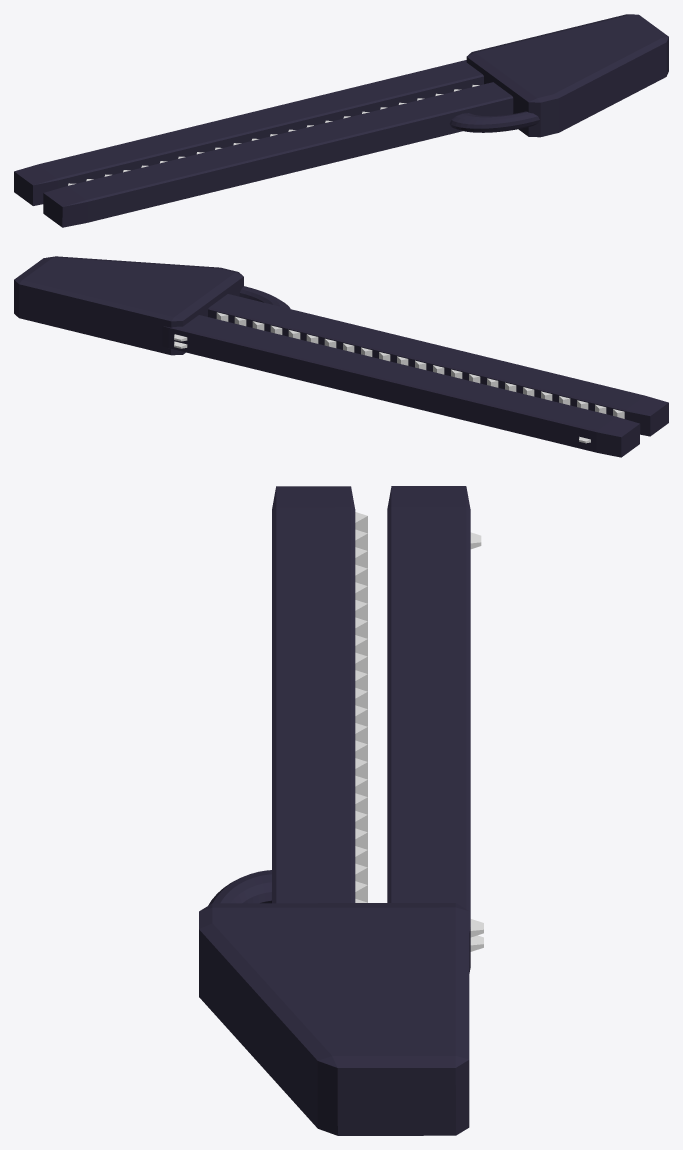
Rendered from Rogue_Demon_PlayerWeapon_V1.fbx.
3 renders of one model, top to bottom at view 1: azimuth 30°, elevation 25°; view 2: azimuth 150°, elevation 25°; view 3: azimuth 270°, elevation 25°, orthographic. The views are drawn at different scales.
Parts seen in each view (by area): view 1: Barrel_Bottom, Cube.002, Barrel_Top, Torus; view 2: Barrel_Top, Cube.002, Barrel_Bottom, Torus; view 3: Cube.002, Barrel_Top, Barrel_Bottom, Torus.
Boxes of the visible parts, <box> form: Barrel_Bottom: <box>43,82,513,227</box>; Cube.002: <box>466,14,668,137</box>; Barrel_Top: <box>14,60,483,205</box>; Torus: <box>449,111,539,132</box>; Barrel_Top: <box>162,315,640,457</box>; Cube.002: <box>14,256,243,355</box>; Barrel_Bottom: <box>208,294,668,436</box>; Torus: <box>239,286,290,308</box>; Cube.002: <box>199,903,469,1135</box>; Barrel_Top: <box>387,486,470,973</box>; Barrel_Bottom: <box>272,486,355,903</box>; Torus: <box>208,870,271,905</box>.
Bounding box in the file's own units: 3387 × 201 × 685.
